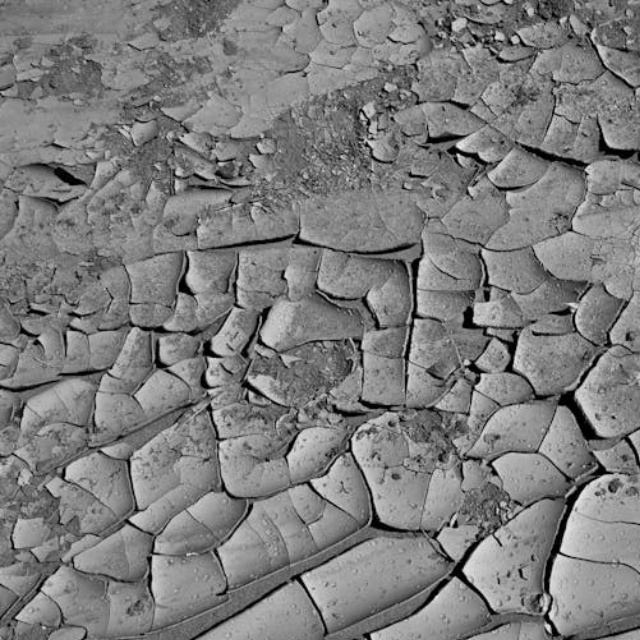网状裂隙: (0, 80, 640, 640)
